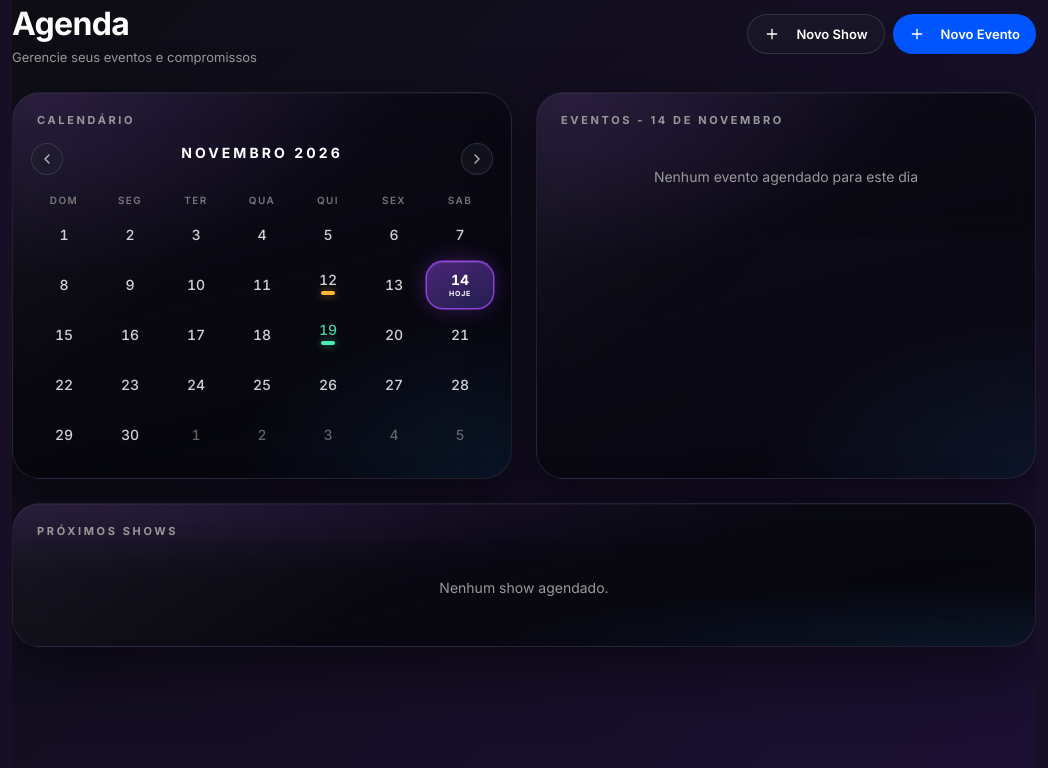
Calendário da Agenda (reformulado sem alterar a lógica) › mantém a seleção de dia: clicar no dia pendente abre os lançamentos daquela data
Click the cell with class "agenda-day-scheduled" at (328, 284), box left=295, top=262, right=361, bottom=308
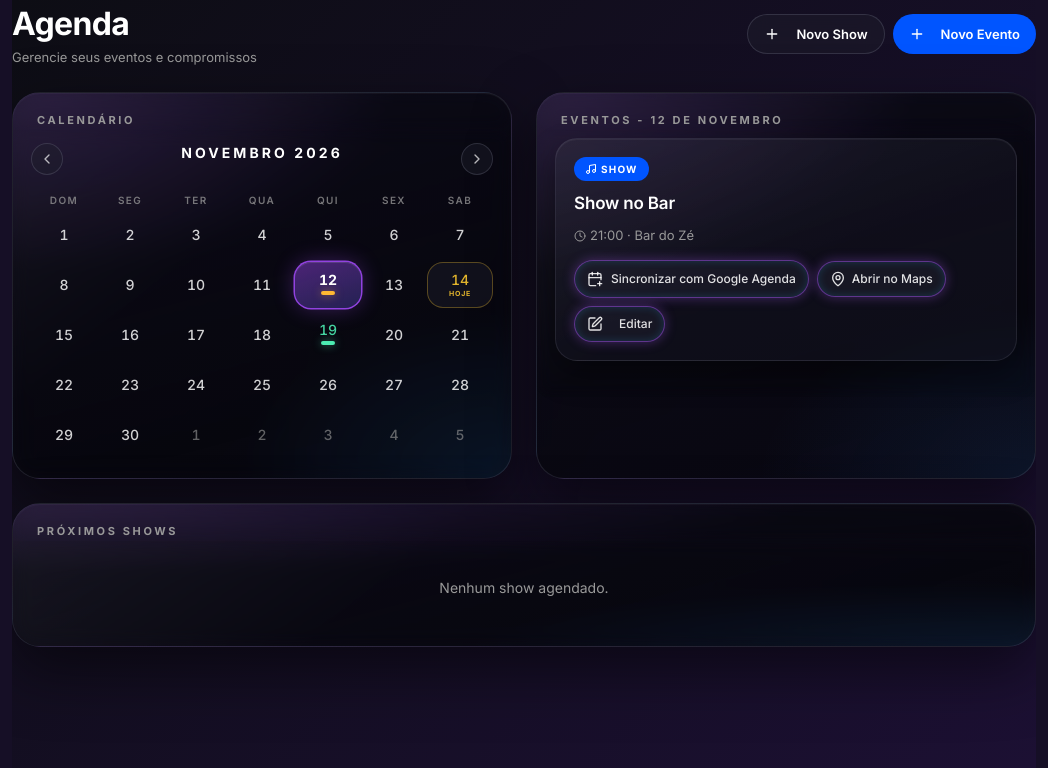
expect the heading "Show no Bar" is shown: met, box left=574, top=192, right=675, bottom=212
